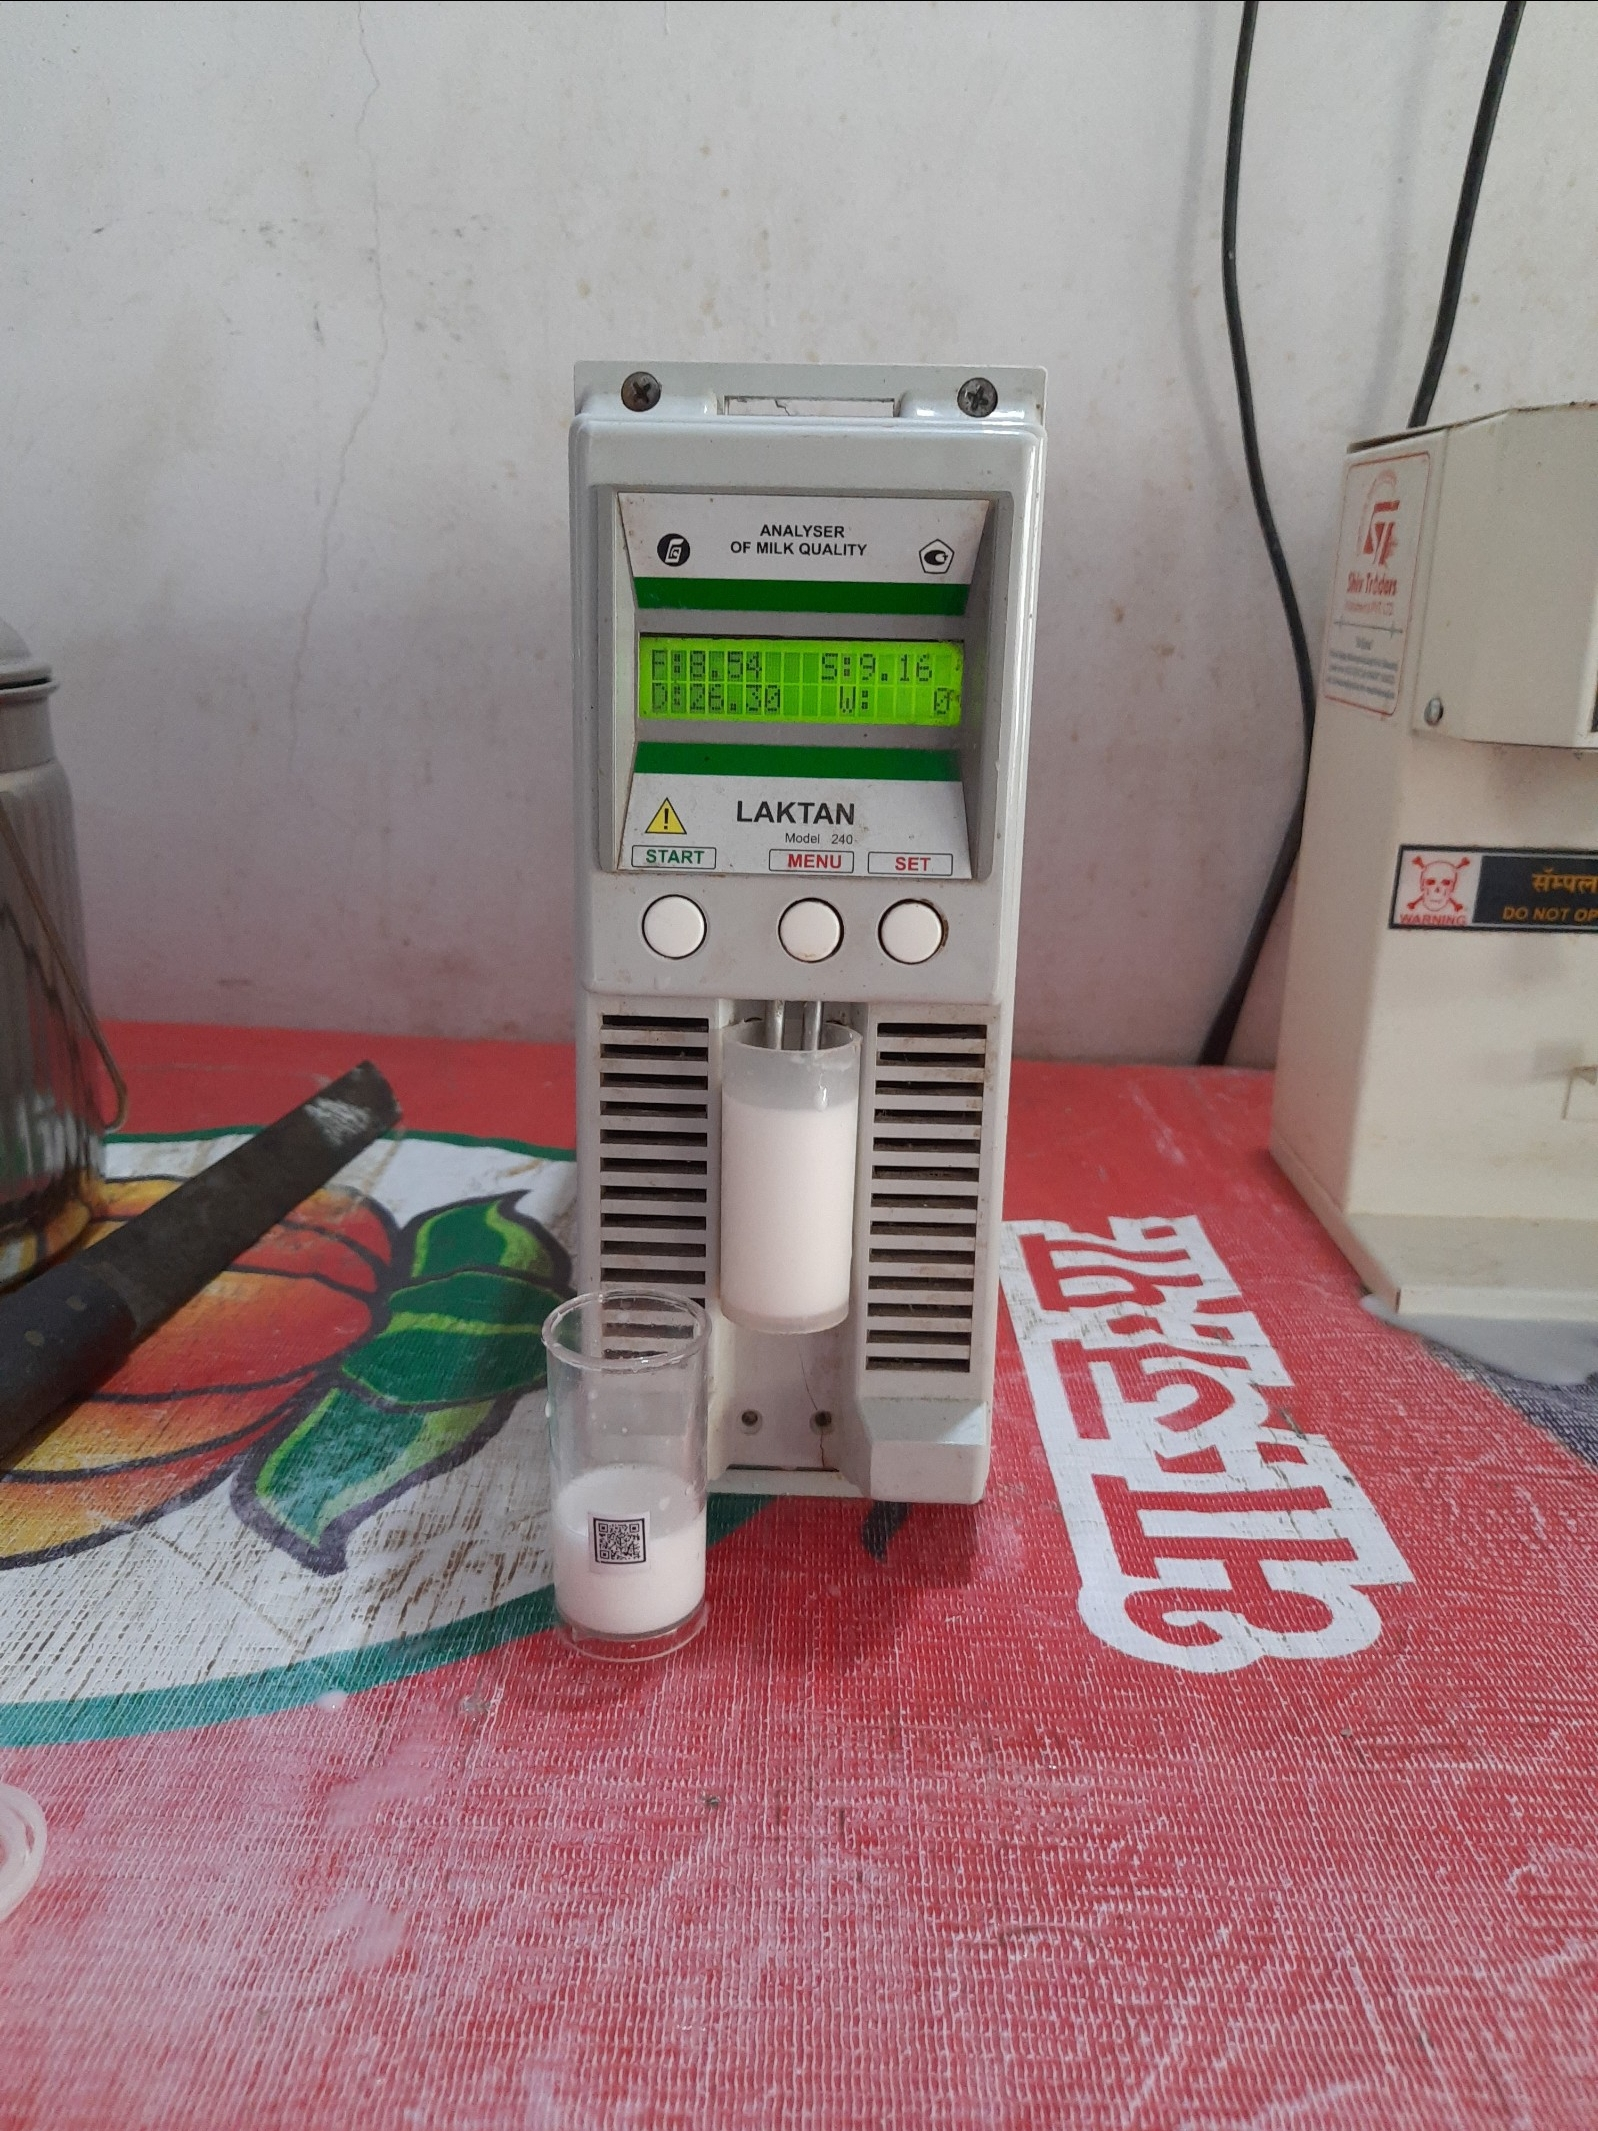lcd: (626, 623, 984, 742)
qr: (577, 1507, 658, 1581)
